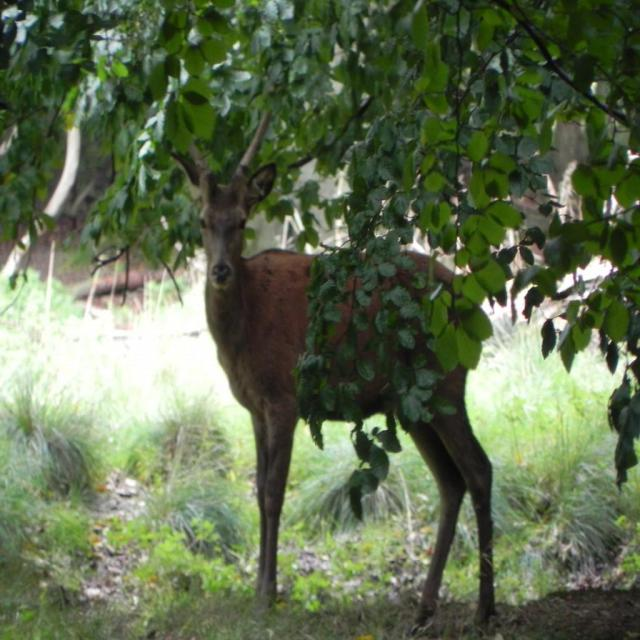Deer: (170, 106, 494, 612)
